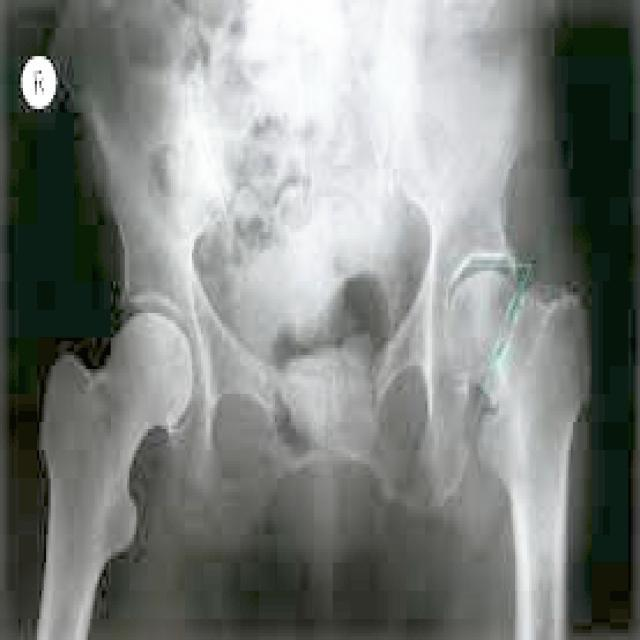Comminuted Fracture: (444, 254, 529, 377)
